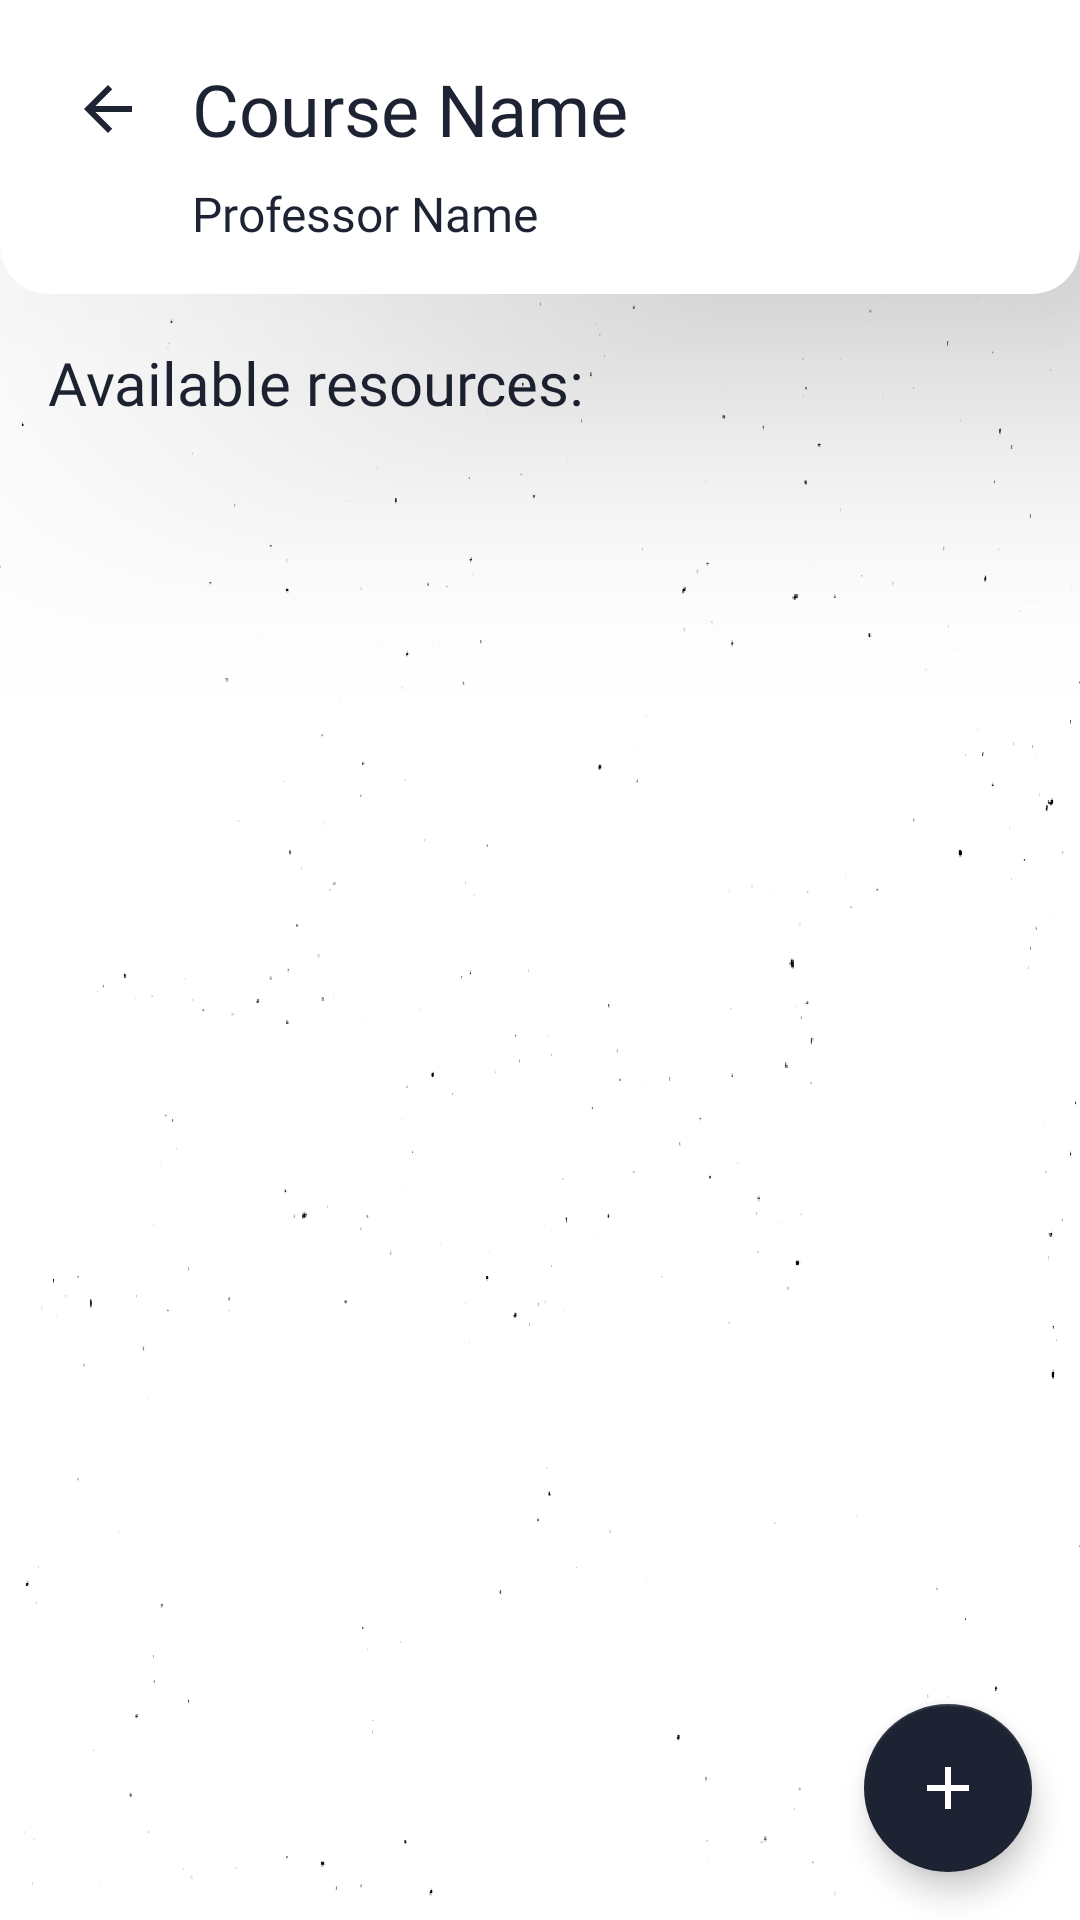

Icon click points for this 1080w x 1920h phone screenshot, format (x,y):
add: (948,1788)
arrow back: (108,109)
